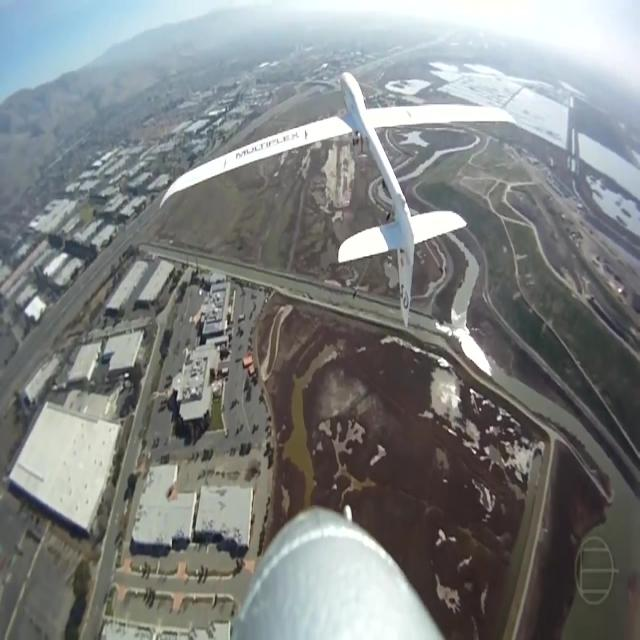iha: (159, 65, 518, 324)
